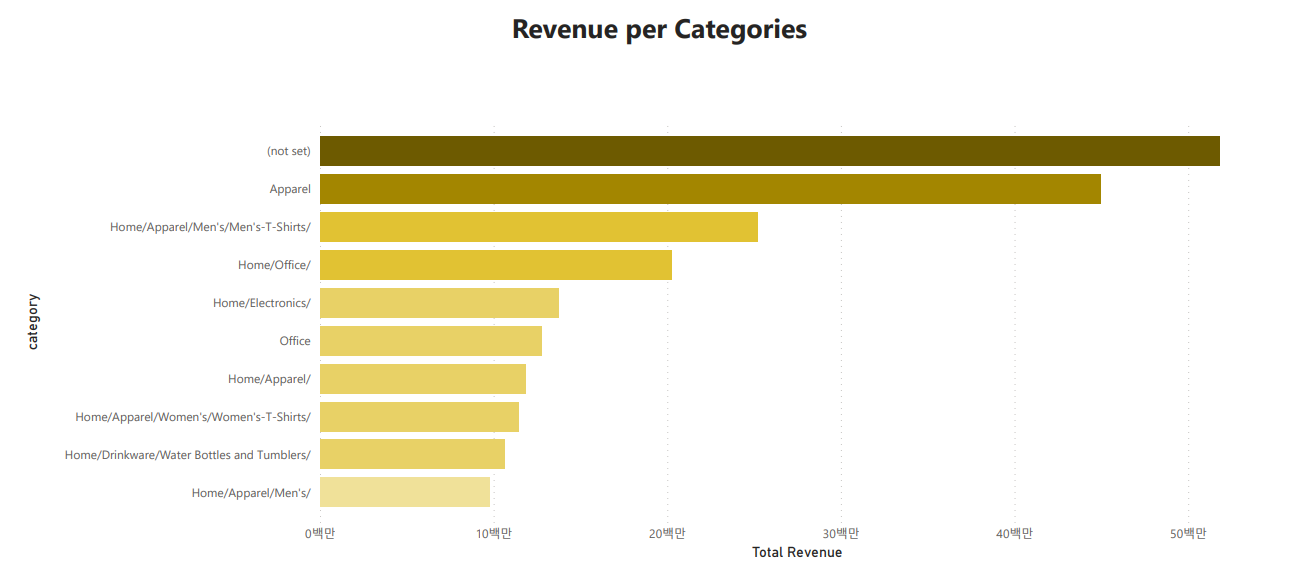

Layout of this report page (visuals, bound fields, positions):
{"tool":"powerbi","page":{"name":"Revenue per Categories","canvas":[1280,720],"ordinal":0},"visuals":[{"type":"clusteredBarChart","fields":{"Category":["Revenue per Categories.category"],"Y":["Sum(Revenue per Categories.total_revenue)"]},"box":[0,103.8,1280,457.5],"z":0},{"type":"textbox","box":[312.5,0,655,71.2],"z":1}]}

Visuals, with their boxes on the page's 1280x720 design canvas (x1, y1, x2, y2). These are canvas units, not pixel positions in the 1302x580 screenshot, which may show the page scaled, cropped or inside an application window:
clusteredBarChart - Revenue per Categories.category x Sum(Revenue per Categories.total_revenue): rect(0, 104, 1280, 561)
textbox: rect(312, 0, 968, 71)
